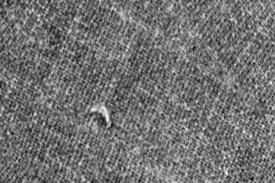snag: (87, 103, 117, 133)
